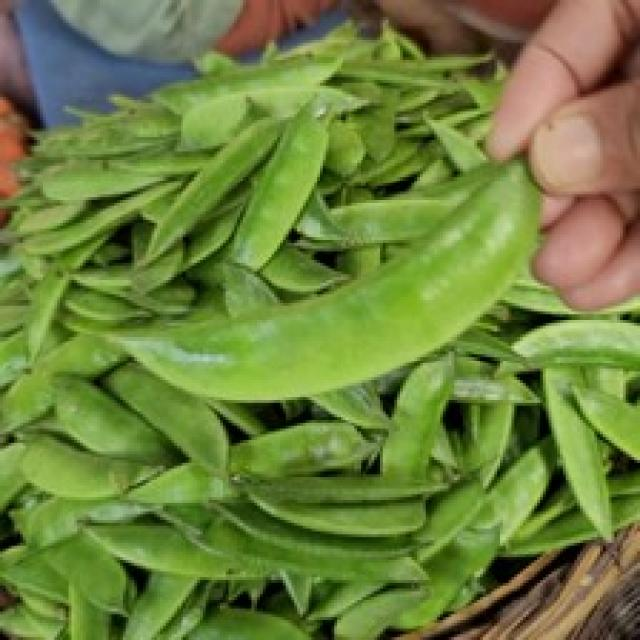Bean: (0, 14, 637, 637), (88, 151, 543, 403)
